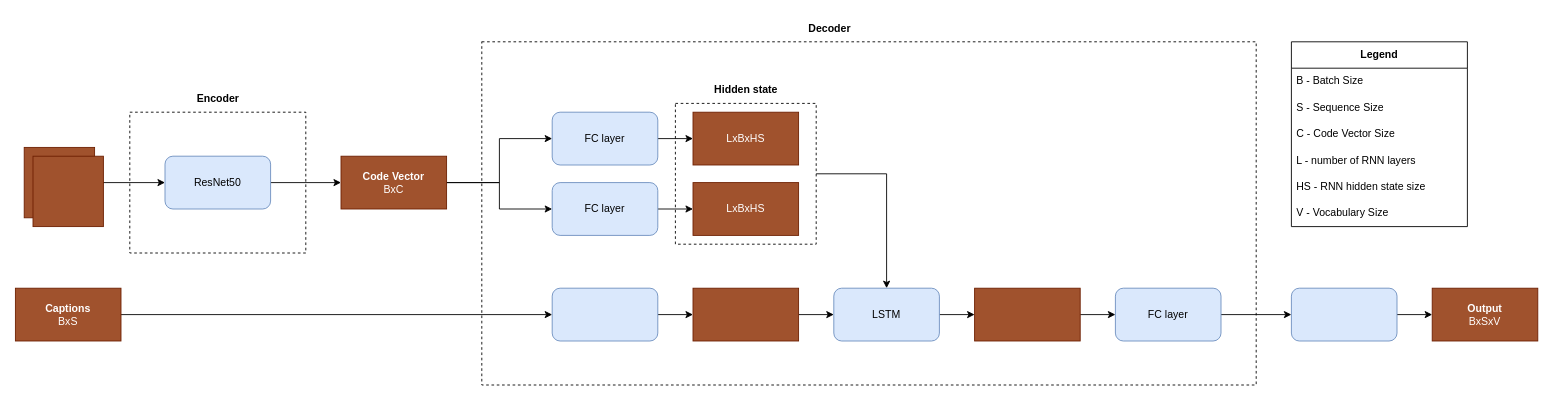
This 1553x400 diagram has some shape labels left out. The shapes that lost their labels are listed below. From the top down, each one's centre as x and y in pixels, then its label:
At (67,191): "Input Image Bx3x224x224".
At (604,314): "Embedding Layer".
At (745,314): "Embedding BxSxHS".
At (1027,314): "BxSxHS".
At (1344,314): "Softmax".
